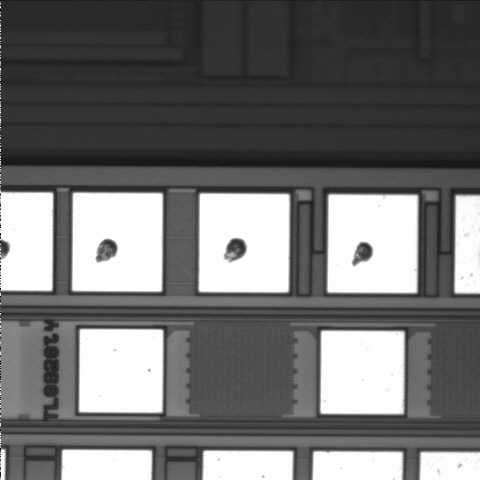pad: (72, 193, 163, 292), (199, 194, 289, 292), (328, 195, 418, 293), (79, 329, 163, 413), (321, 331, 404, 414)
